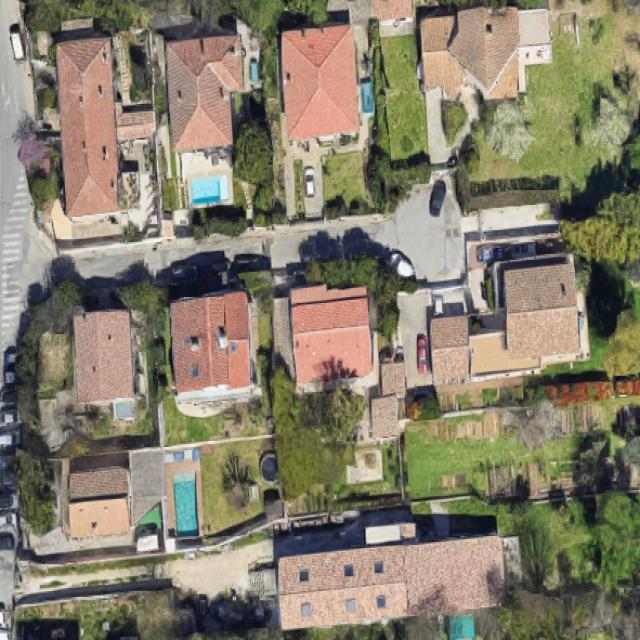maison: (56, 40, 118, 217), (277, 546, 409, 628), (277, 24, 363, 138), (418, 9, 517, 98), (290, 283, 372, 390), (171, 291, 250, 401), (168, 36, 243, 150), (502, 255, 581, 358), (406, 538, 503, 615), (73, 308, 134, 399), (62, 468, 130, 539), (429, 318, 469, 383), (370, 0, 412, 21)
